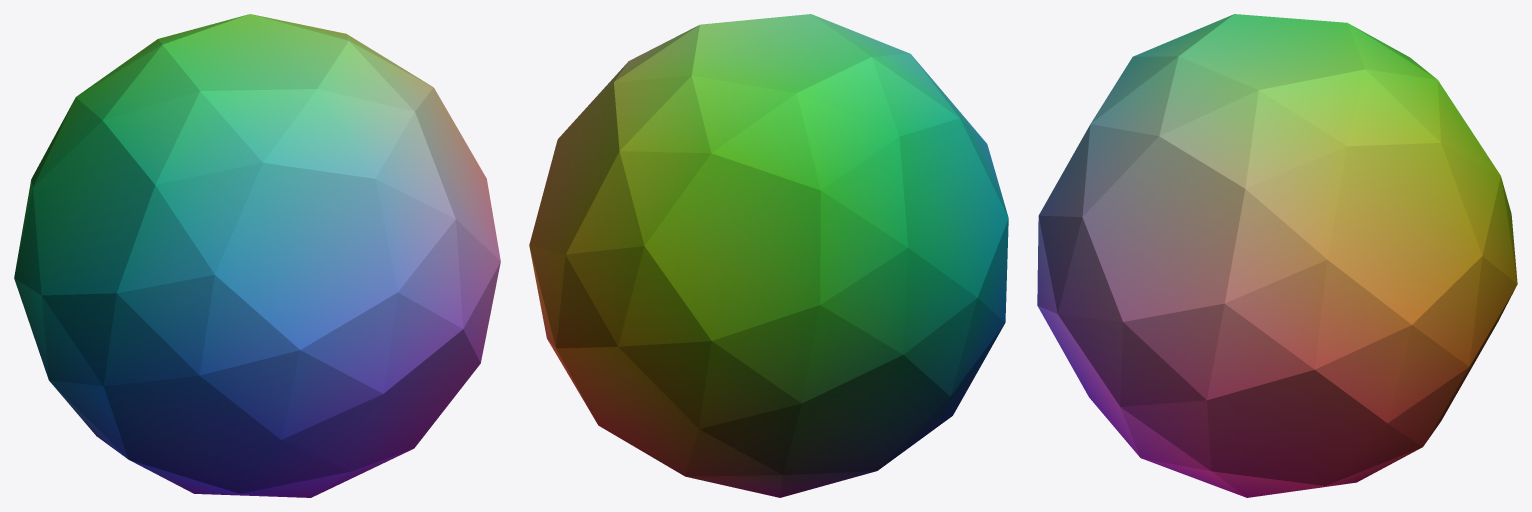
The model's file is zeometry-polyhedra-snub-dodecahedron_v1.glb.
3 renders of one model, left to right at view 1: azimuth 30°, elevation 25°; view 2: azimuth 150°, elevation 25°; view 3: azimuth 270°, elevation 25°, orthographic.
Visible parts, largest first — view 1: Snub Dodecahedron; view 2: Snub Dodecahedron; view 3: Snub Dodecahedron.
Part boxes in pixels (x1,y1,x2,y2): Snub Dodecahedron: (14, 14, 500, 497); Snub Dodecahedron: (529, 14, 1008, 497); Snub Dodecahedron: (1037, 14, 1517, 497).
Size of the model in its own units: 0.5 by 0.4643 by 0.4944.
